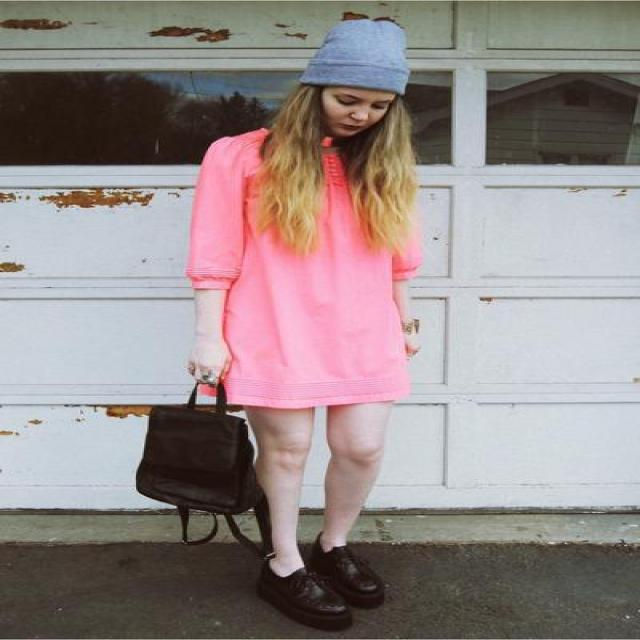bag: (134, 378, 269, 524)
hat: (298, 19, 408, 93)
shirt: (186, 128, 424, 418)
shoe: (254, 542, 384, 638)
